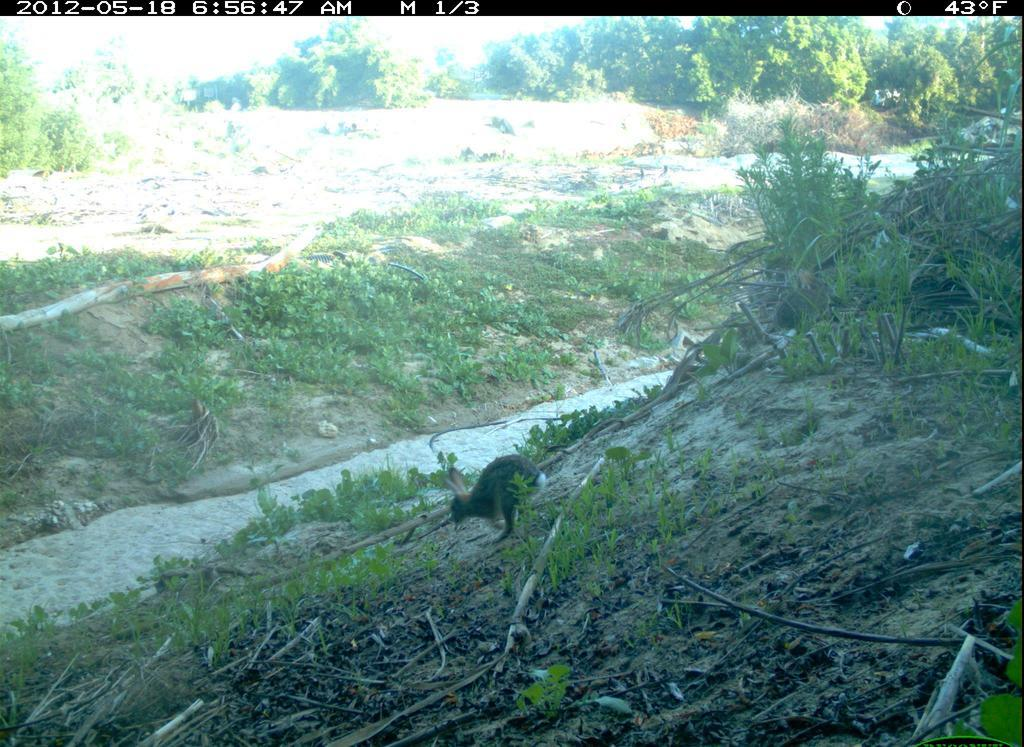rabbit: (431, 438, 562, 551)
